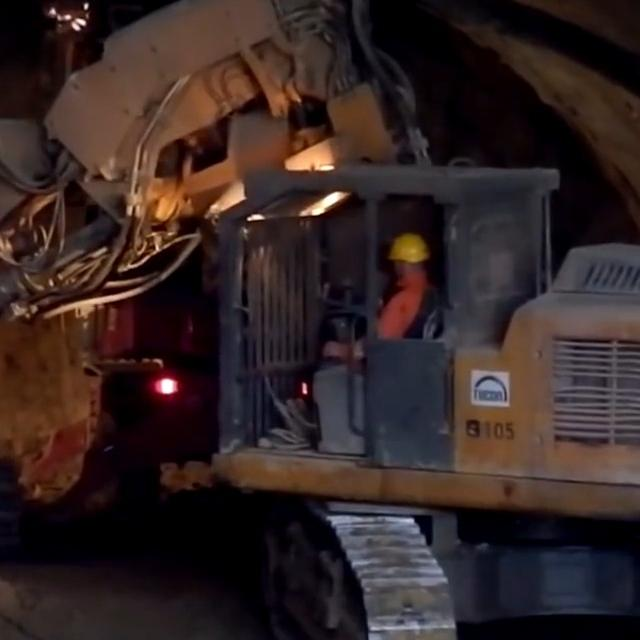Excavator: (0, 0, 640, 640)
Hardhat: (391, 234, 429, 263)
NO-Mask: (399, 266, 410, 281)
Safety Vest: (381, 276, 428, 338)
